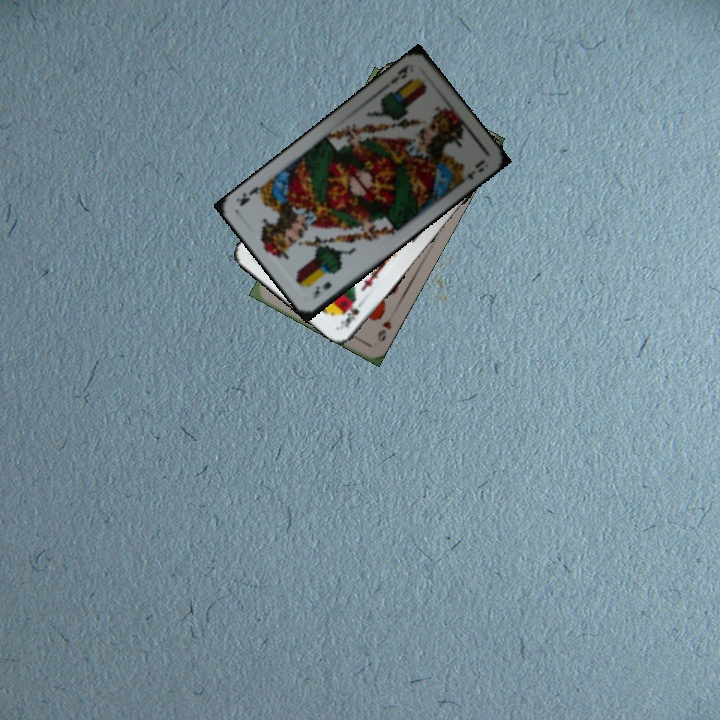EK: (386, 61, 412, 87), (308, 277, 334, 302)
H9: (373, 317, 394, 345)
SK: (336, 304, 362, 331)
